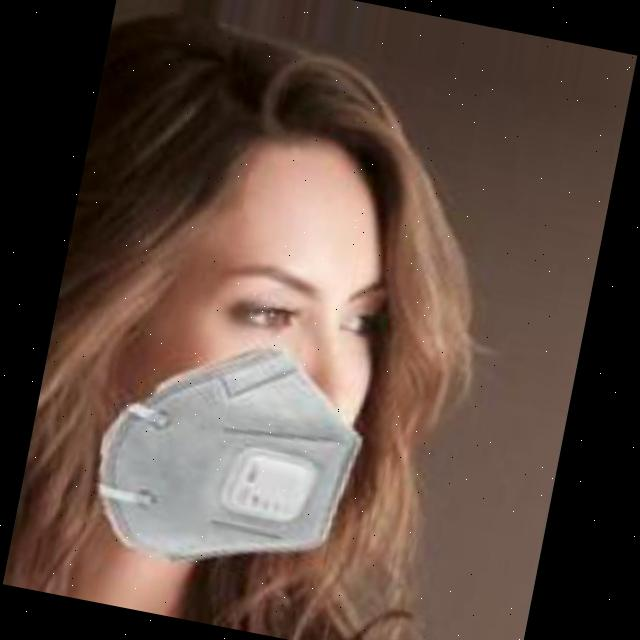suspicion: (86, 74, 446, 616)
